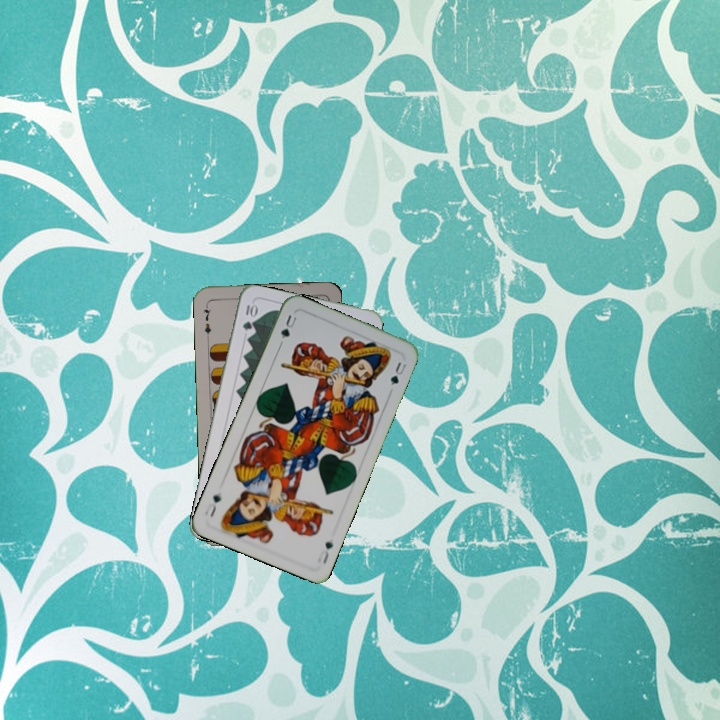E7: (200, 300, 214, 341)
G10: (238, 299, 259, 333)
GU: (276, 311, 300, 341), (314, 537, 336, 566)
